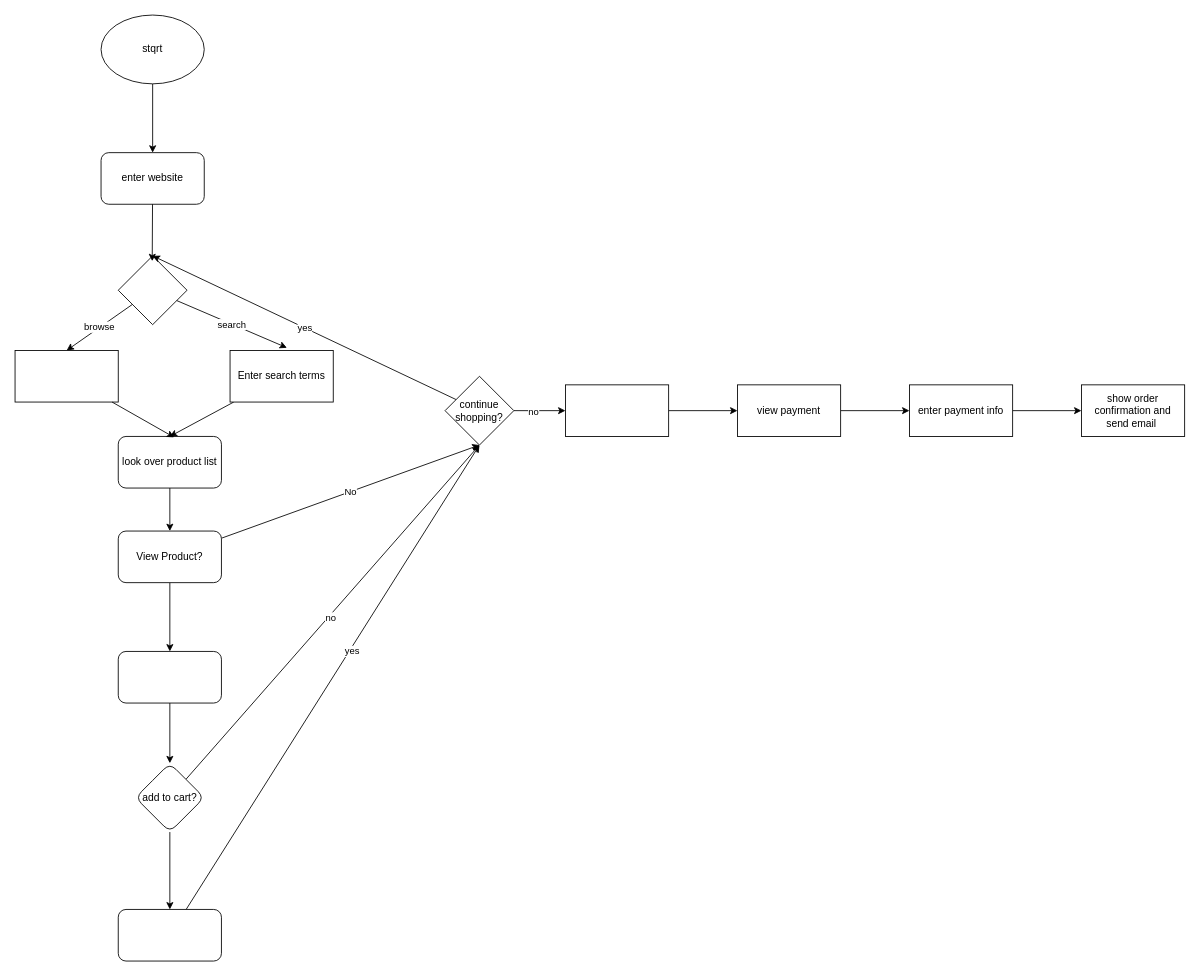
This 1200x976 diagram has some shape labels left out. The centre of each missing label's shape, as x and y in pixels:
Open Product page: point (169, 677)
Search or Browse?: point (152, 290)
show 'product added' to cart: point (169, 935)
View cart: point (617, 410)
View home page products: point (66, 376)
